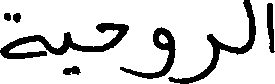ا: (265, 1, 273, 53)
ة: (0, 11, 49, 59)
ح: (96, 21, 127, 54)
ر: (172, 32, 218, 83)
ل: (240, 0, 254, 55)
و: (127, 24, 173, 83)
ي: (62, 29, 80, 76)
